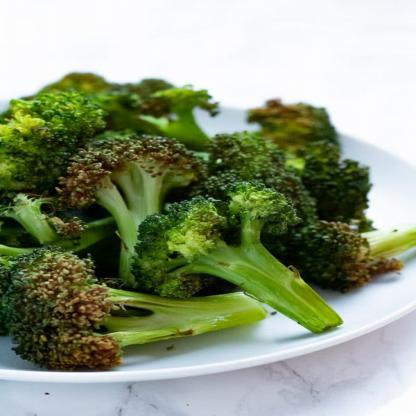broccoli: (0, 71, 408, 374)
